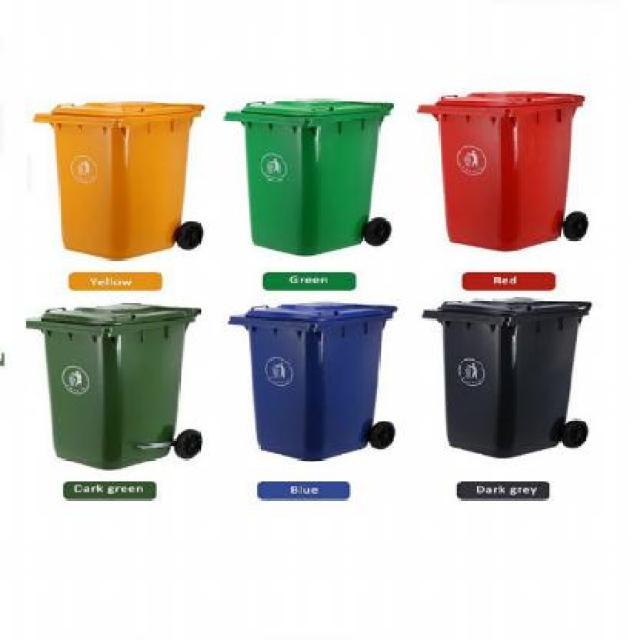garbage container: (407, 78, 619, 257), (22, 92, 227, 271), (10, 298, 212, 479), (214, 93, 415, 262), (413, 296, 599, 467), (224, 295, 399, 467)
